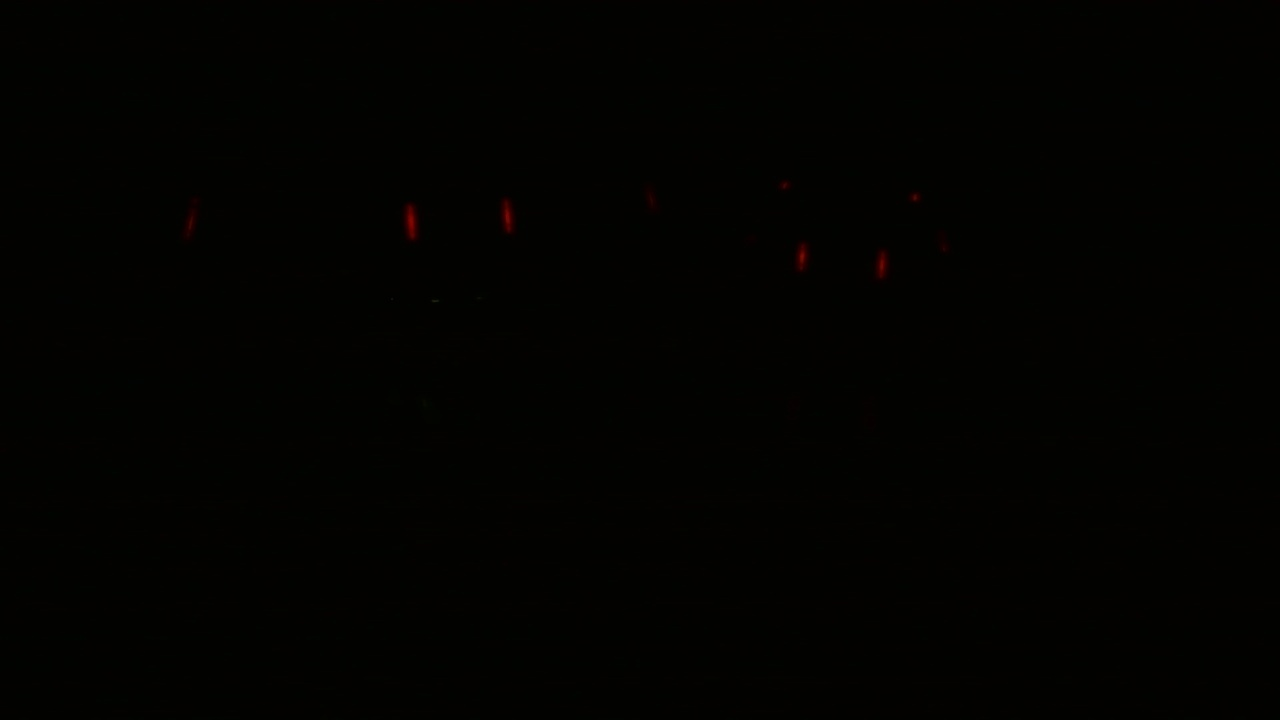pair1: (393, 193, 522, 251)
pair2: (785, 234, 902, 288)
